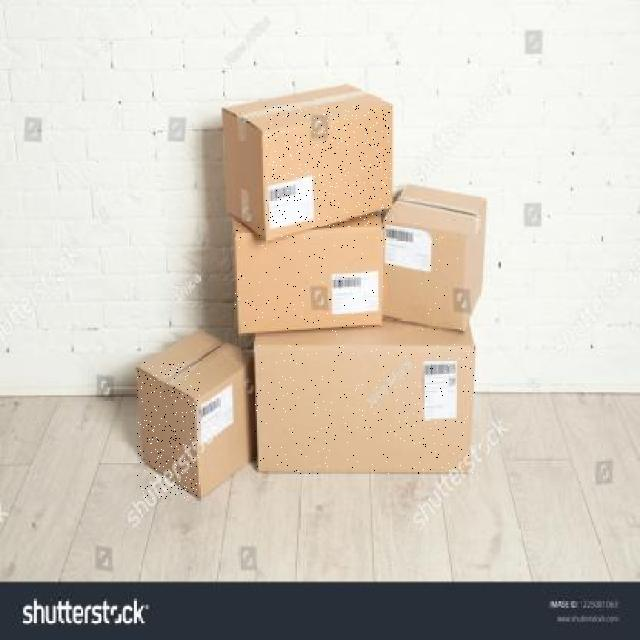BoxFace: (254, 343, 476, 474), (264, 105, 392, 244), (234, 228, 383, 336), (381, 223, 468, 334), (137, 362, 200, 500)
